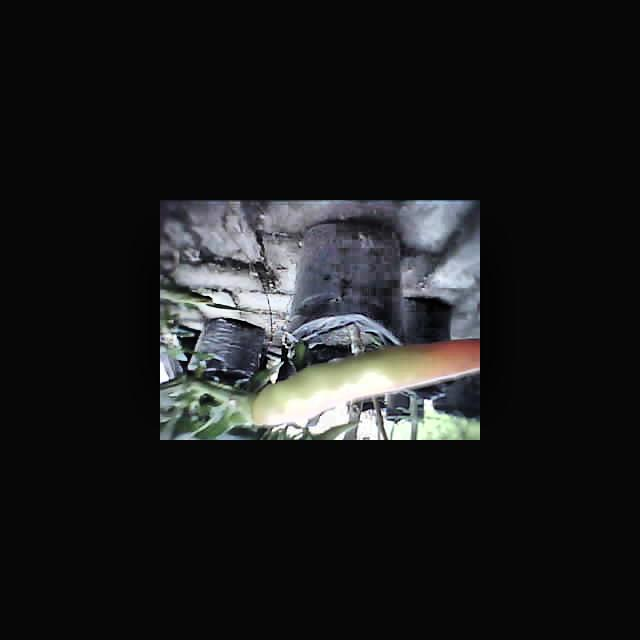Cabai: (266, 349, 480, 411)
